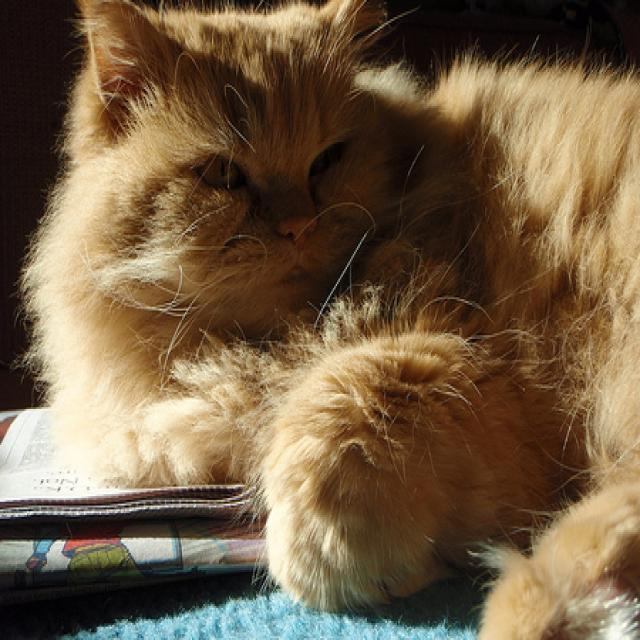Persian: (17, 0, 640, 640)
